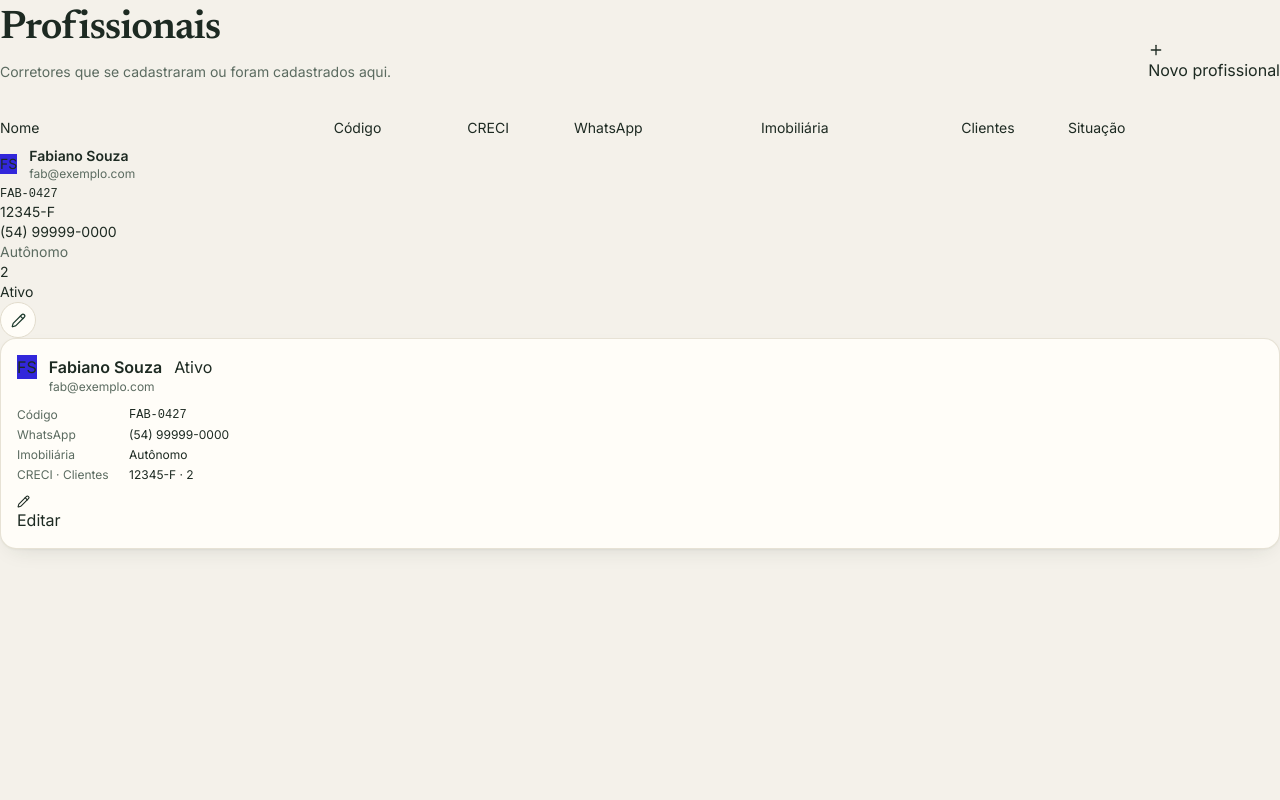
Scenario: BrokersPage › tem botão Editar visível e troca o e-mail de acesso
Later steps or results of the test are not shown.
Click the button named "Editar Fabiano Souza": click(18, 320) [0,302,36,338]
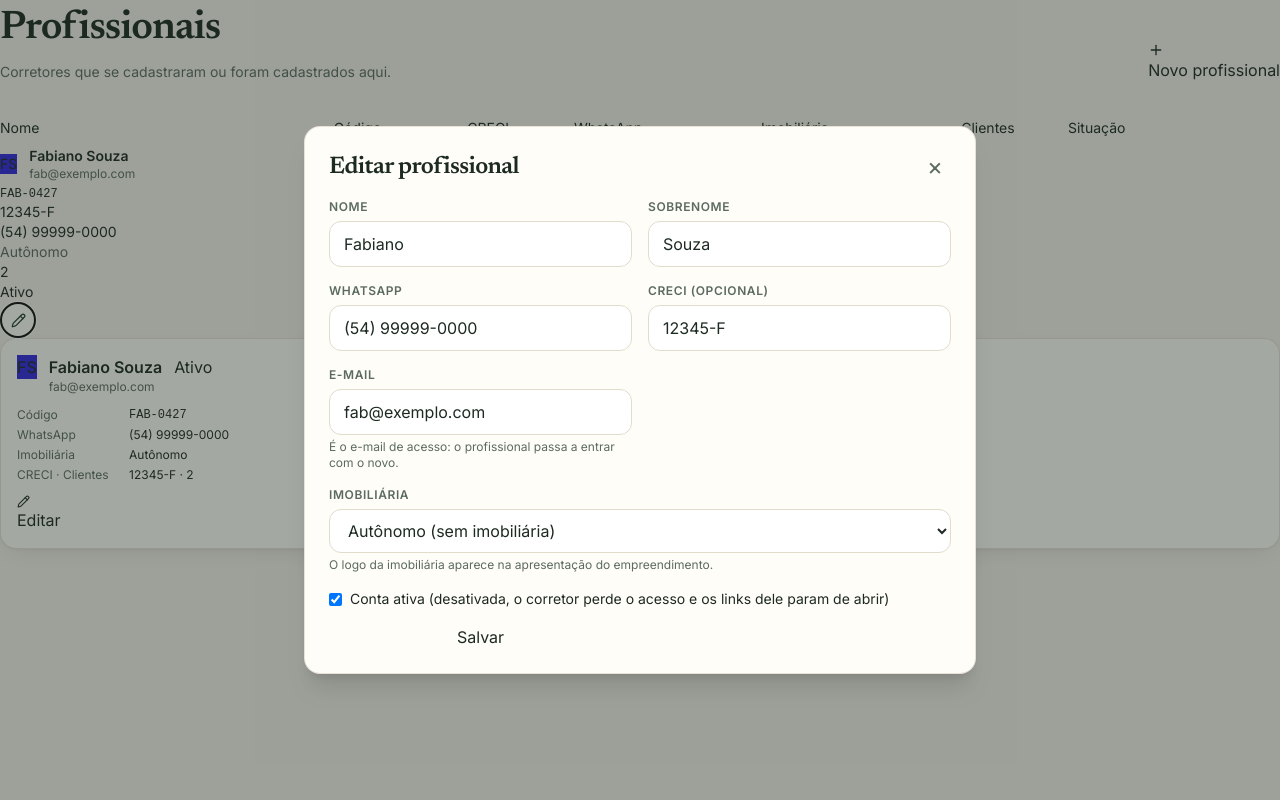
Expected: the dialog "Editar profissional" is shown
Expected: the field labelled "E-mail" holds "fab@exemplo.com", [329,389,632,435]
